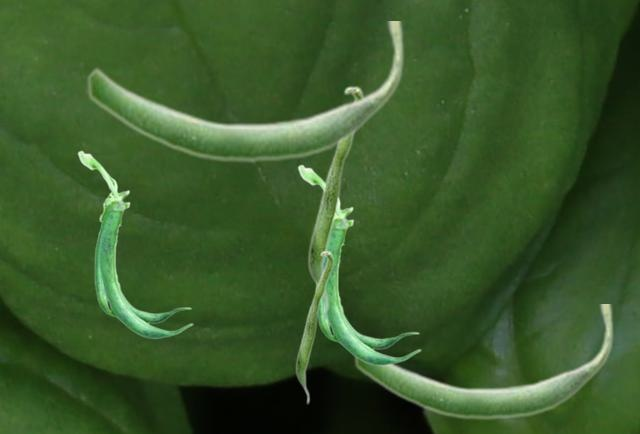french_bean: (86, 21, 404, 163), (353, 304, 613, 420), (297, 164, 420, 365), (77, 150, 192, 338), (307, 85, 364, 313), (295, 250, 333, 404)
